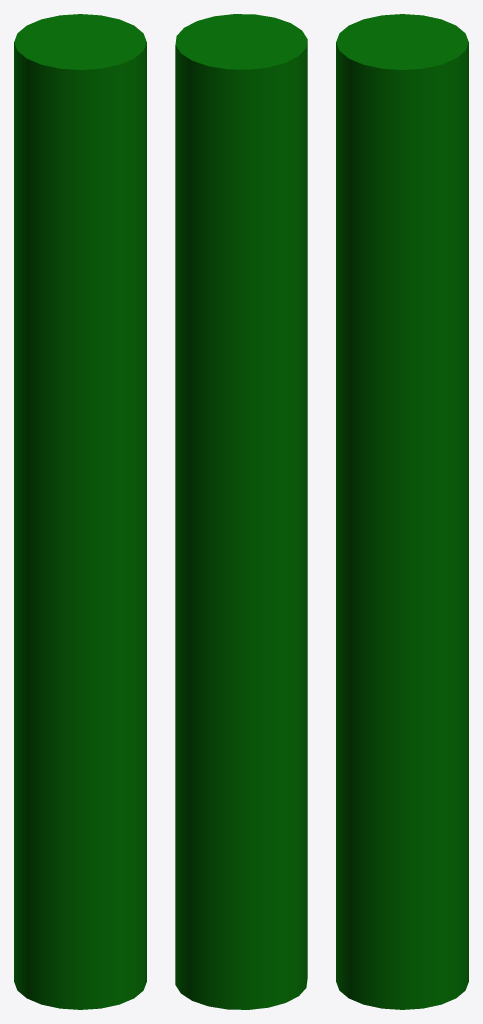
The model's file is Test_guirlande.fbx.
The picture shows the model from 3 angles, left to right: view 1: azimuth 90°, elevation 25°; view 2: azimuth 150°, elevation 25°; view 3: azimuth 270°, elevation 25°; orthographic projection.
Visible parts, largest first — view 1: pCylinder1; view 2: pCylinder1; view 3: pCylinder1.
Boxes of the visible parts, <box> form: pCylinder1: <box>14,14,146,1009</box>; pCylinder1: <box>175,14,307,1009</box>; pCylinder1: <box>336,14,468,1009</box>.
Size of the model in its own units: 2.57 by 20.07 by 2.57.
